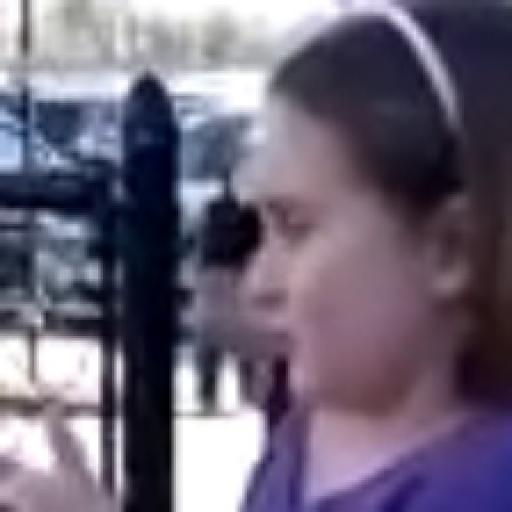Autism: (171, 87, 512, 480)
